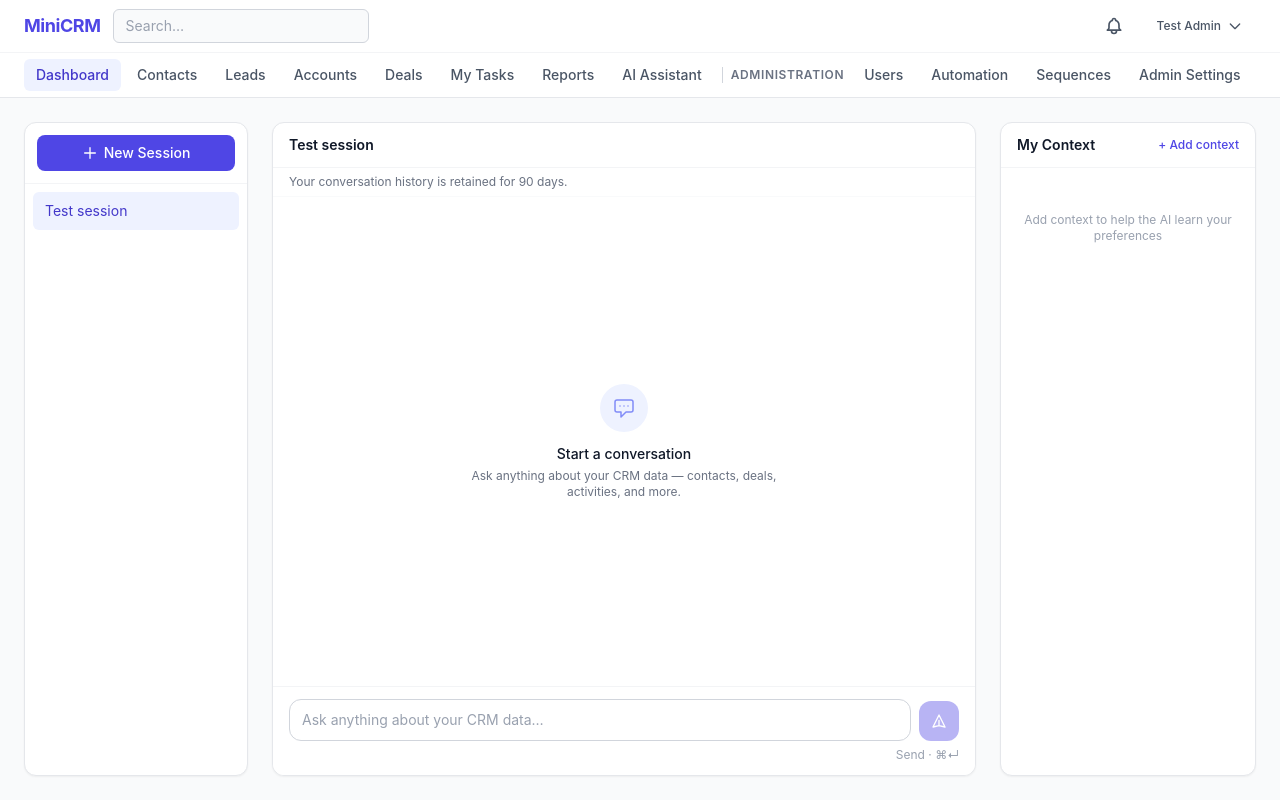
AiPage — send message handshake › shows the assistant reply from the POST response before any follow-up GET resolves
Type "Hello assistant" into the text box with test id "ai-message-input" at (600,720), box x1=289 y1=699 x2=911 y2=741
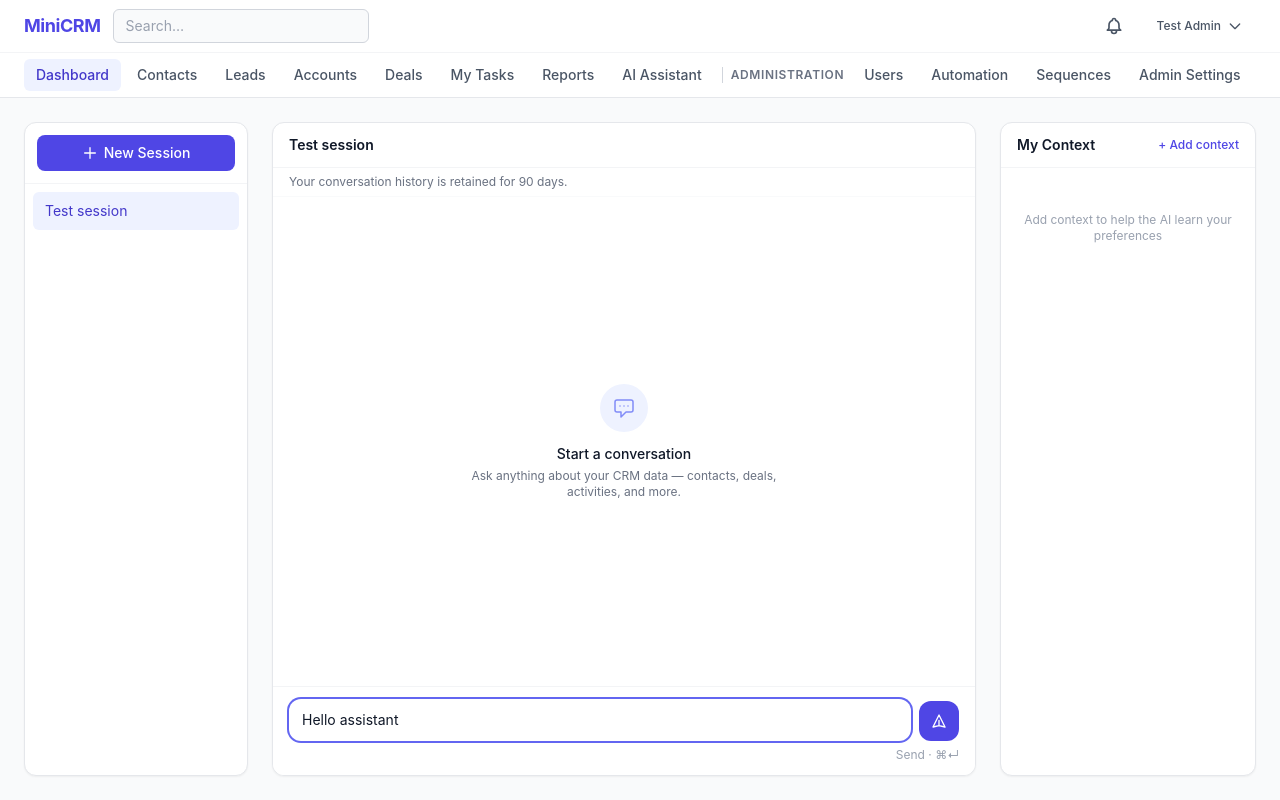
Click the button with test id "ai-send-button" at (939,721), box x1=919 y1=701 x2=959 y2=741
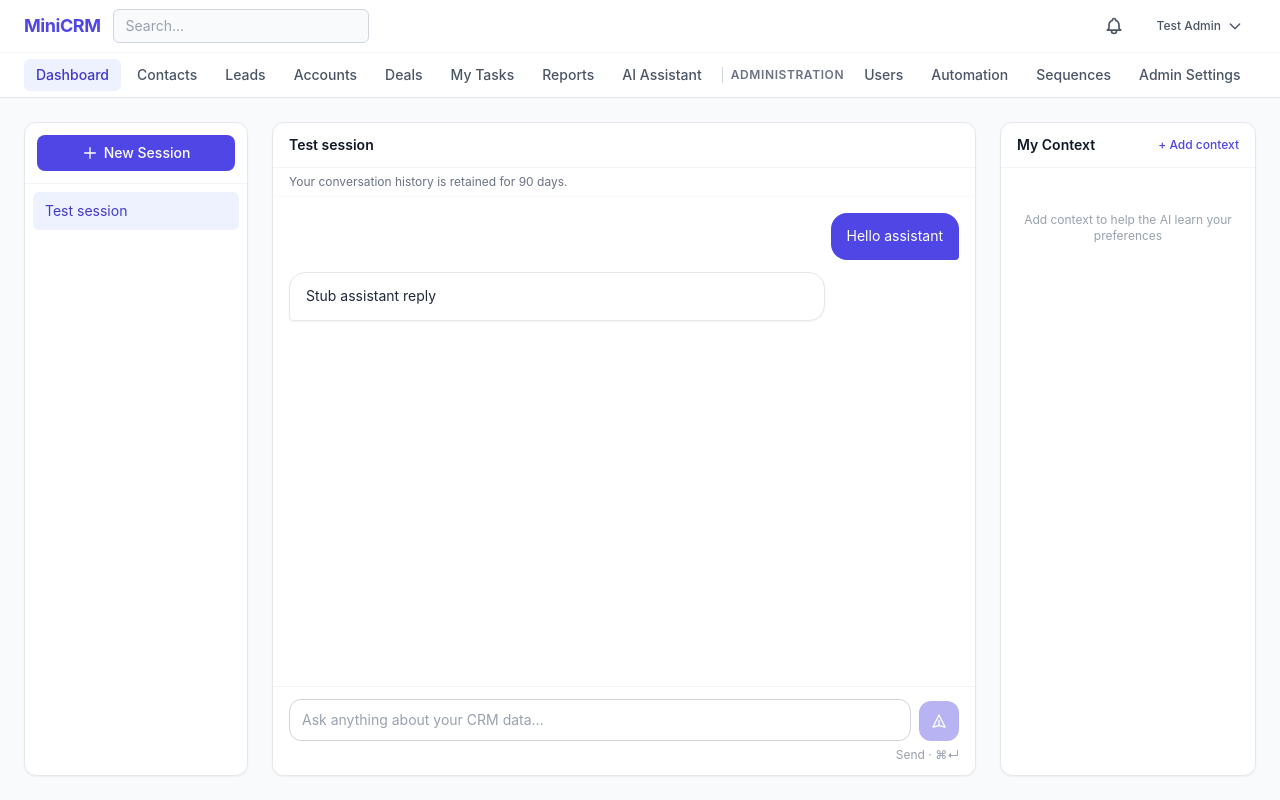
Expected: the text "Stub assistant reply" is shown, x1=306 y1=287 x2=436 y2=304
Expected: the text "Hello assistant" is shown, x1=830 y1=213 x2=959 y2=260
